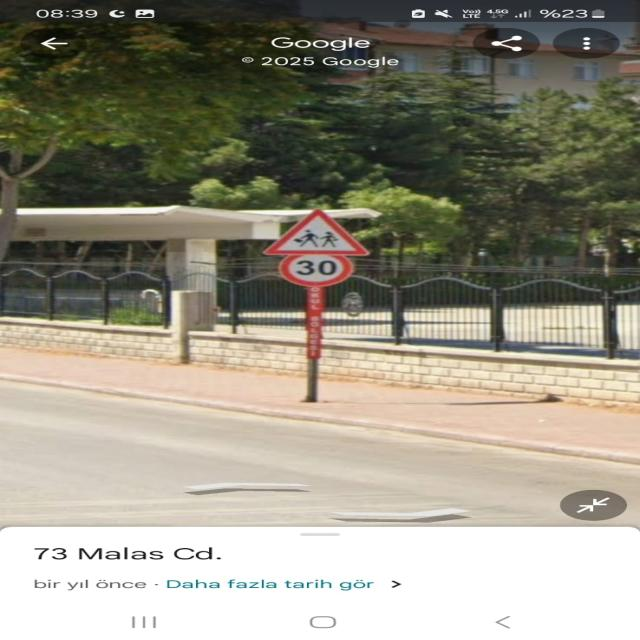okul_gecidi: (262, 208, 370, 255)
